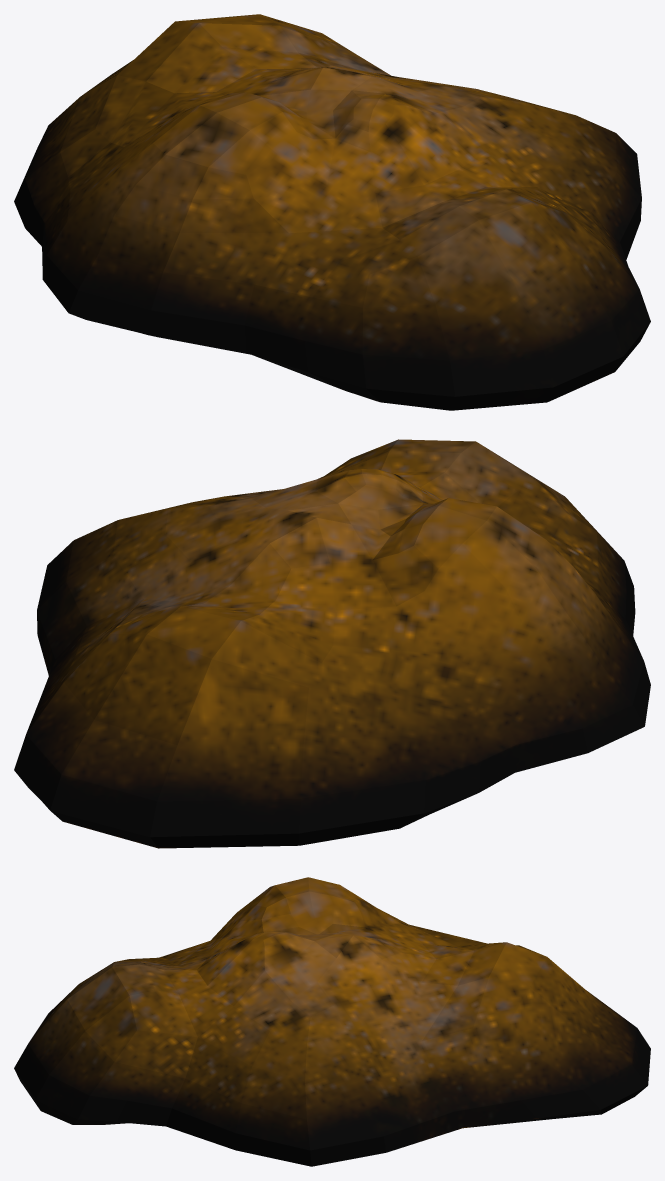
File: UnityErdeHaufen.fbx
The picture shows the model from 3 angles, top to bottom: view 1: azimuth 30°, elevation 25°; view 2: azimuth 150°, elevation 25°; view 3: azimuth 270°, elevation 25°; orthographic projection. The views are drawn at different scales.
Visible parts, largest first — view 1: Cube; view 2: Cube; view 3: Cube.
Boxes of the visible parts, box(x1,y1,x2,y2) form: Cube: box(14, 14, 650, 410); Cube: box(14, 439, 650, 848); Cube: box(14, 877, 650, 1166).
Bounding box in the file's own units: 108 × 35.23 × 133.
